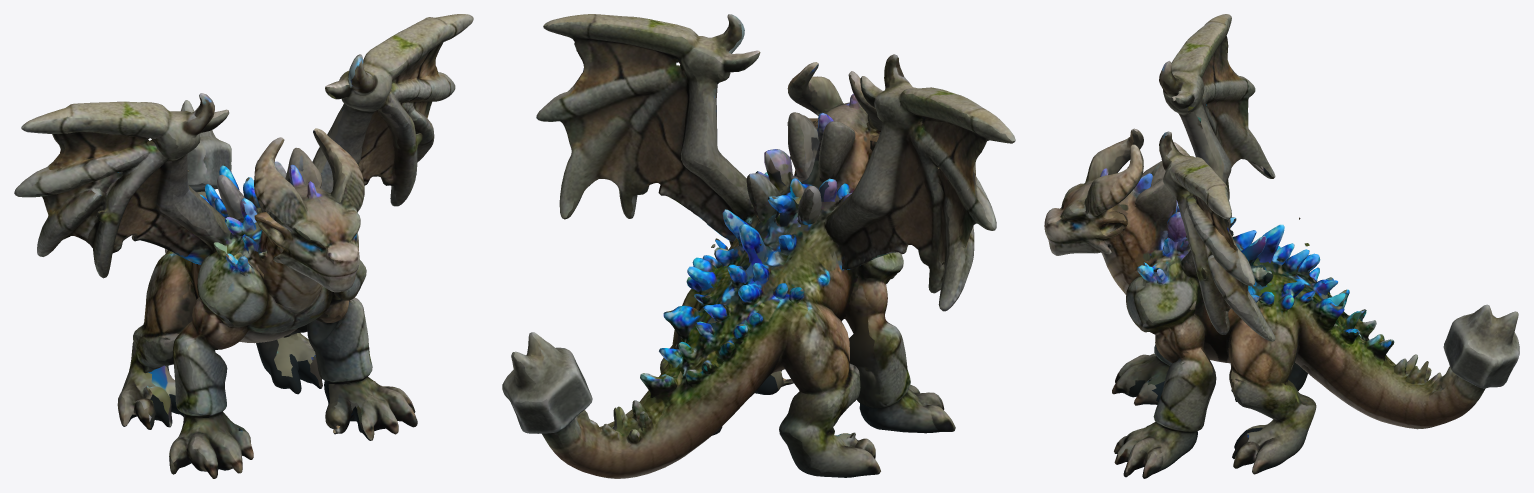
The model's file is golem_model_lvl5.glb.
3 renders of one model, left to right at view 1: azimuth 30°, elevation 25°; view 2: azimuth 150°, elevation 25°; view 3: azimuth 270°, elevation 25°, orthographic. The views are drawn at different scales.
Parts seen in each view (by area): view 1: tmps5et7ls1.ply; view 2: tmps5et7ls1.ply; view 3: tmps5et7ls1.ply.
Part boxes in pixels (x1,y1,x2,y2): tmps5et7ls1.ply: (14,14,473,478); tmps5et7ls1.ply: (502,14,1015,478); tmps5et7ls1.ply: (1044,14,1519,478).
Size of the model in its own units: 1.98 by 1.52 by 1.97.
1 material, 1 textured.
